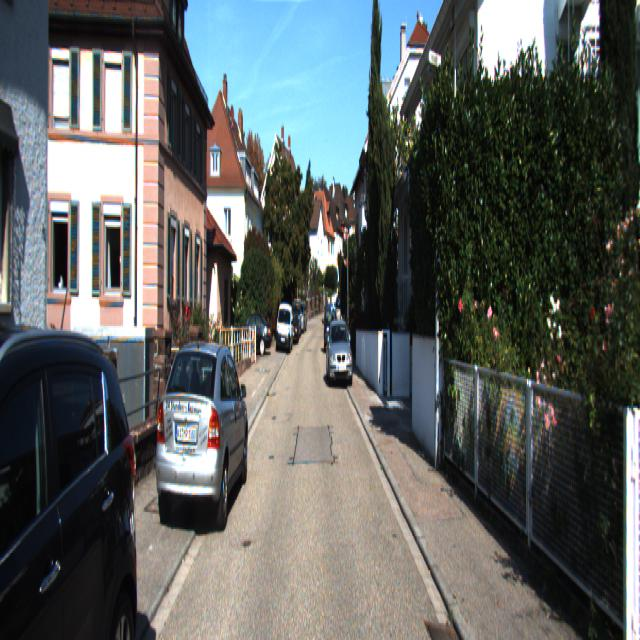Car: (0, 278, 156, 638), (154, 331, 252, 534), (326, 317, 353, 391), (275, 303, 294, 354), (324, 303, 338, 352)
